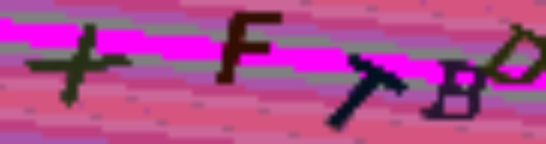B: (419, 55, 489, 122)
D: (479, 18, 546, 90)
F: (207, 4, 294, 88)
T: (320, 49, 412, 133)
X: (16, 21, 136, 109)
